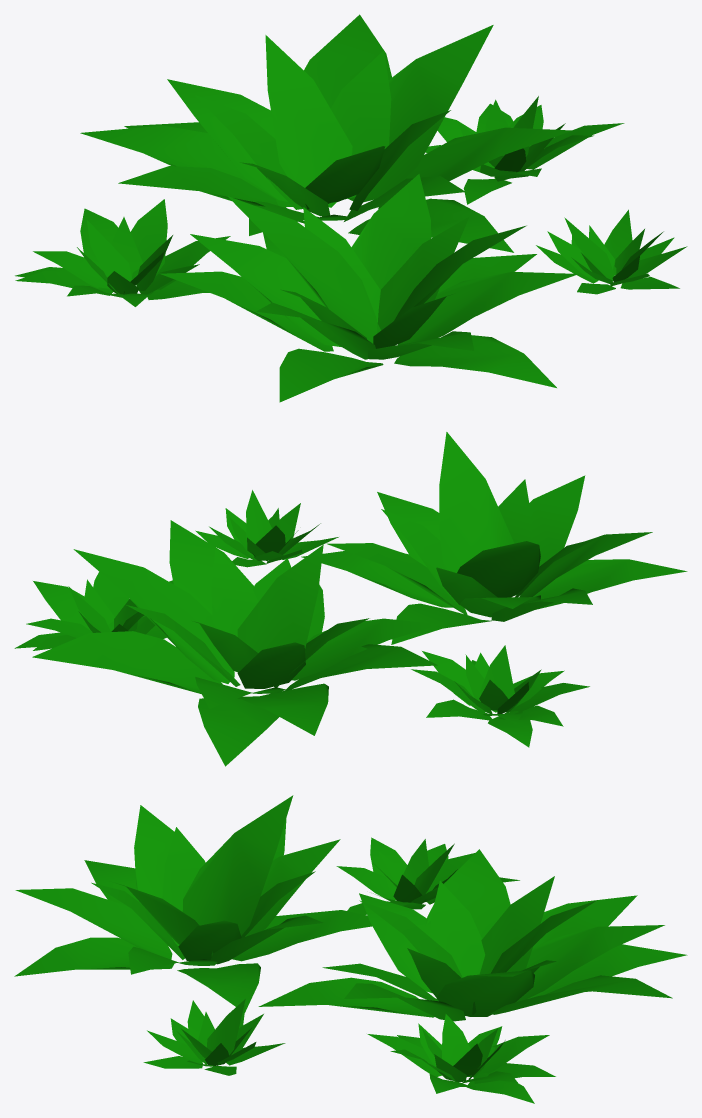
File: SM_Bush_002_LOD4.fbx
3 views of the same model, one above another, from view 1: azimuth 30°, elevation 25°; view 2: azimuth 150°, elevation 25°; view 3: azimuth 270°, elevation 25° (orthographic). The views are drawn at different scales.
Visible parts, largest first — view 1: Bush_02; view 2: Bush_02; view 3: Bush_02.
Part boxes in pixels (left/top/right/bottom): Bush_02: left=15, top=14, right=687, bottom=402; Bush_02: left=14, top=432, right=687, bottom=766; Bush_02: left=14, top=795, right=687, bottom=1103.
Bounding box in the file's own units: 719 × 159 × 780.
